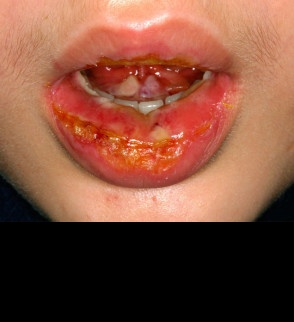SJS-TEN: (38, 62, 247, 201)
